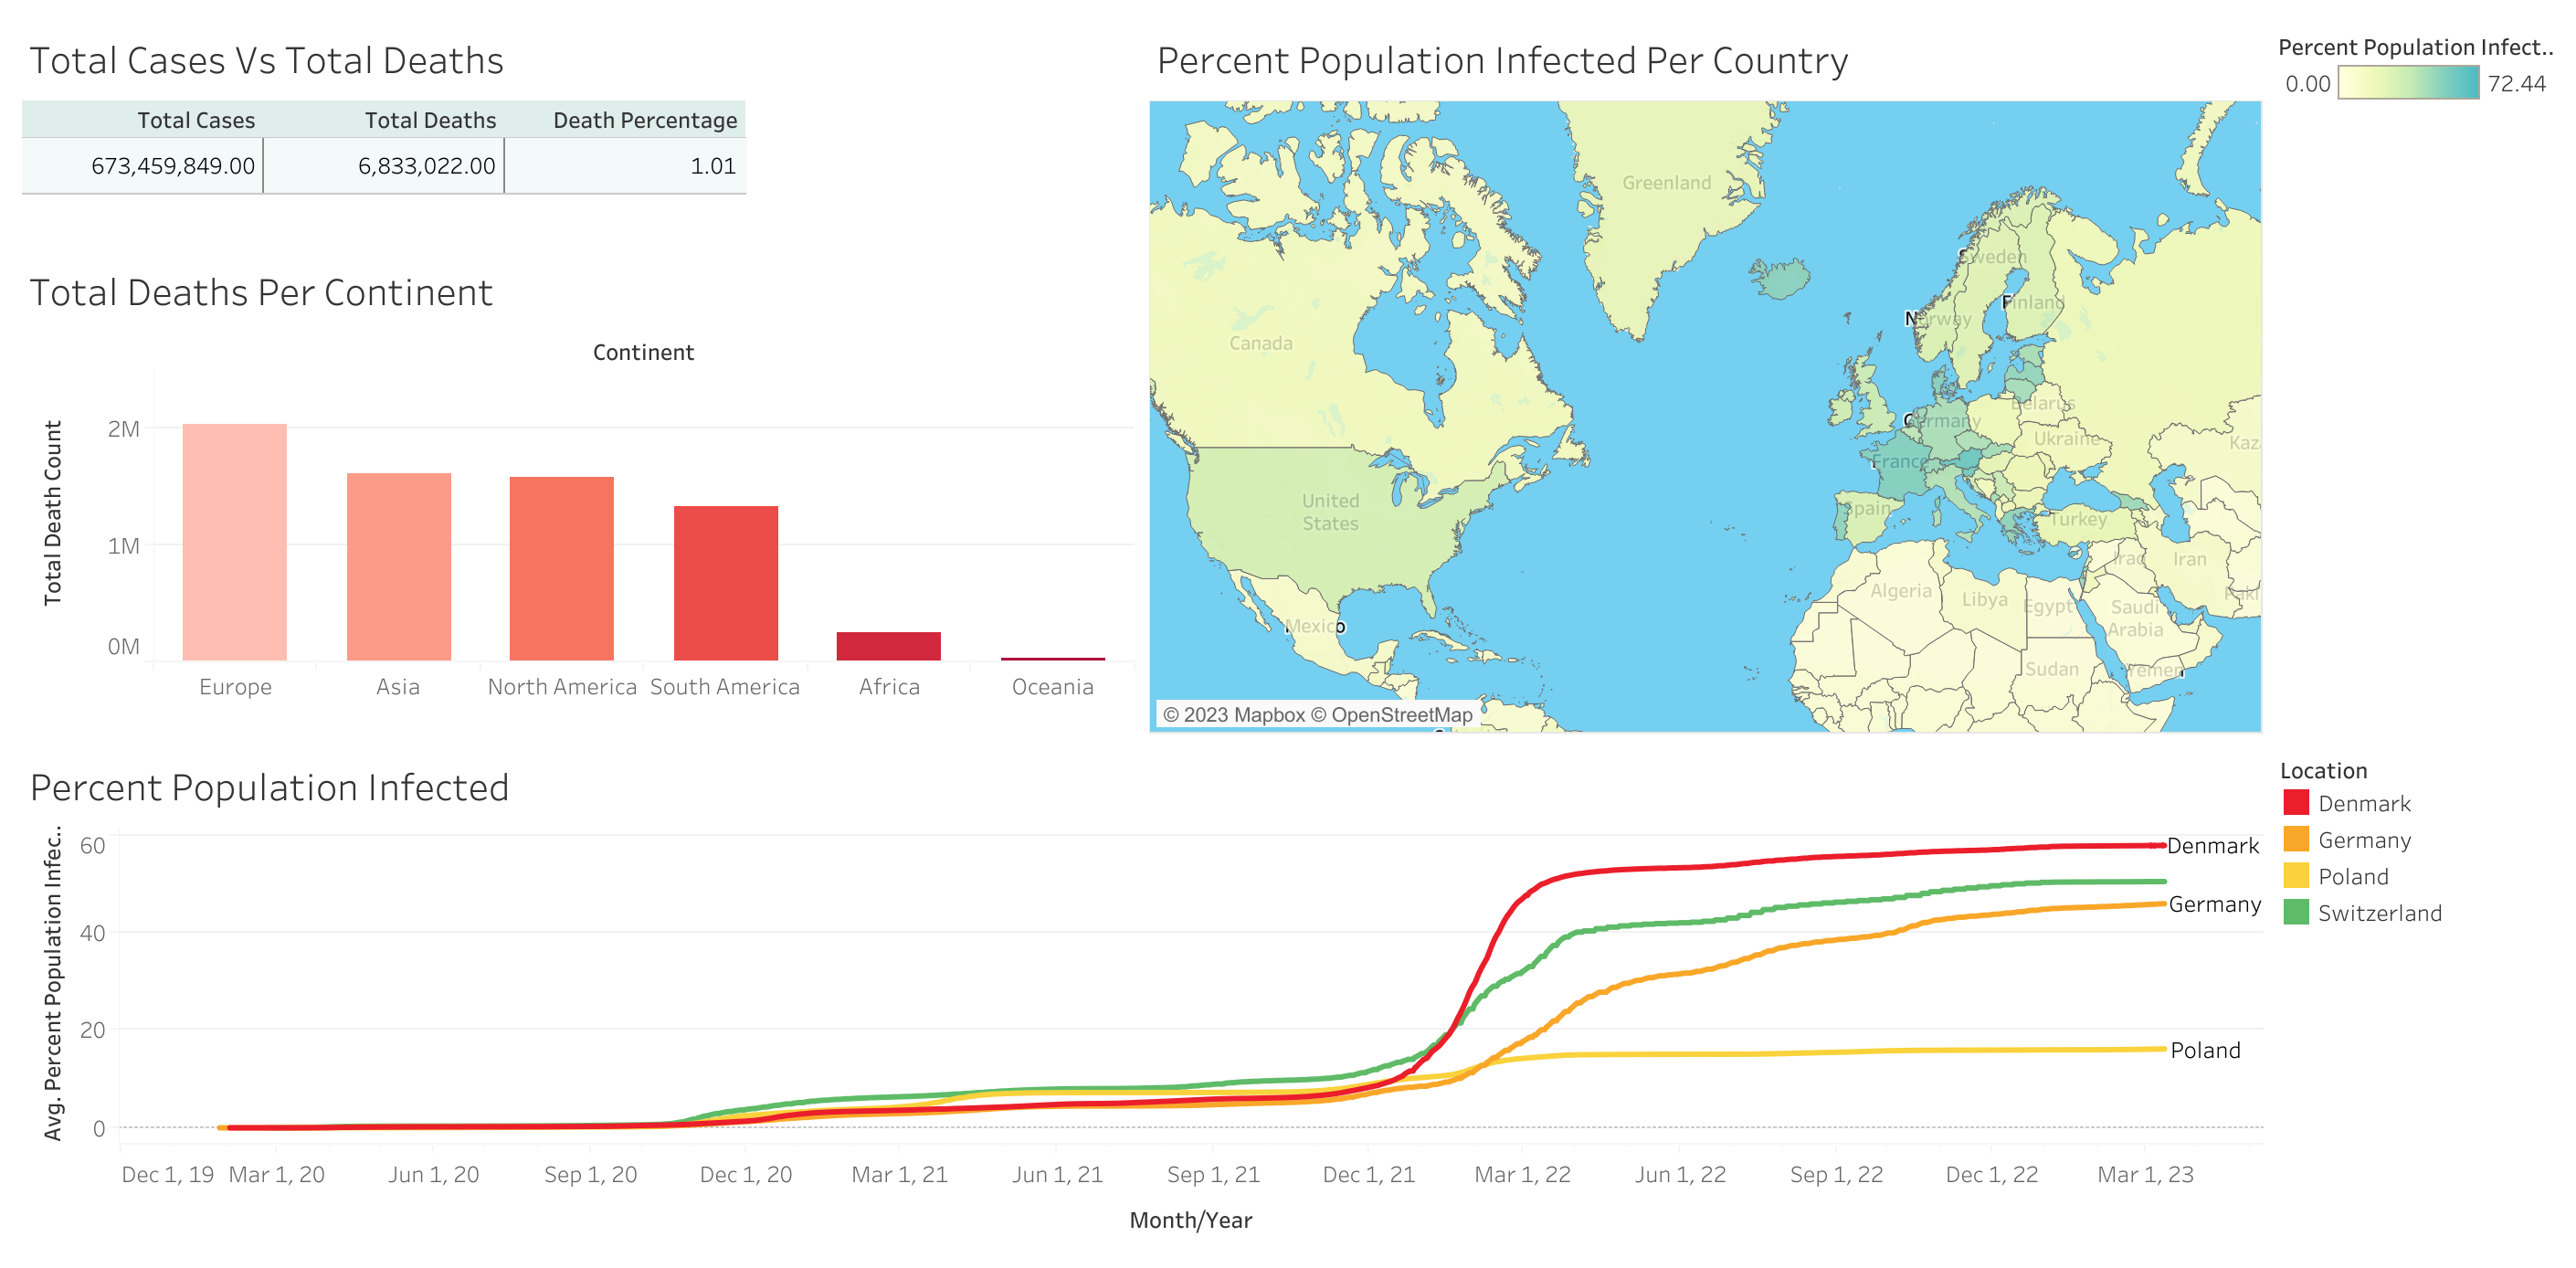

This screenshot's page, from the dashboard's own definition file:
{"tool":"tableau","page":{"name":"Dashboard 1","canvas":[1000,1000],"units":"permille","ordinal":0},"visuals":[{"type":"worksheet","title":"Sheet 1","mark":"Automatic","box":[6.8,13.5,425.2,182.4]},{"type":"worksheet","title":"Sheet 3","mark":"Automatic","box":[432,13.5,425.2,571]},{"type":"legend","title":"Sheet 3","param":"[federated.0ya3ji10slxxsl17yab7a146fmre].[sum:PercentPopulationInfected:qk]","box":[857.1,13.5,136.1,425.7]},{"type":"worksheet","title":"Sheet 2","mark":"Automatic","rows":["TotalDeathCount"],"cols":["location"],"box":[6.8,196,425.2,388.5]},{"type":"worksheet","title":"Sheet 4","mark":"Automatic","rows":["PercentPopulationInfected"],"cols":["date"],"box":[6.8,584.5,850.4,402]},{"type":"legend","title":"Sheet 4","param":"[federated.00k1hoq0mmvft014y8iv11w854jp].[none:Location:nk]","box":[857.1,584.5,136.1,402]}]}

Visuals, with their boxes on the dashboard's canvas, which has no fixed pixel size, in thousandths of its width and height (x1, y1, x2, y2). These are canvas units, not pixel positions in the 2576x1268 screenshot, which may show the page scaled, cropped or inside an application window:
"Sheet 1" worksheet: bbox=(7, 14, 432, 196)
"Sheet 3" worksheet: bbox=(432, 14, 857, 584)
"Sheet 3" legend: bbox=(857, 14, 993, 439)
"Sheet 2" worksheet: bbox=(7, 196, 432, 584)
"Sheet 4" worksheet: bbox=(7, 584, 857, 986)
"Sheet 4" legend: bbox=(857, 584, 993, 986)
